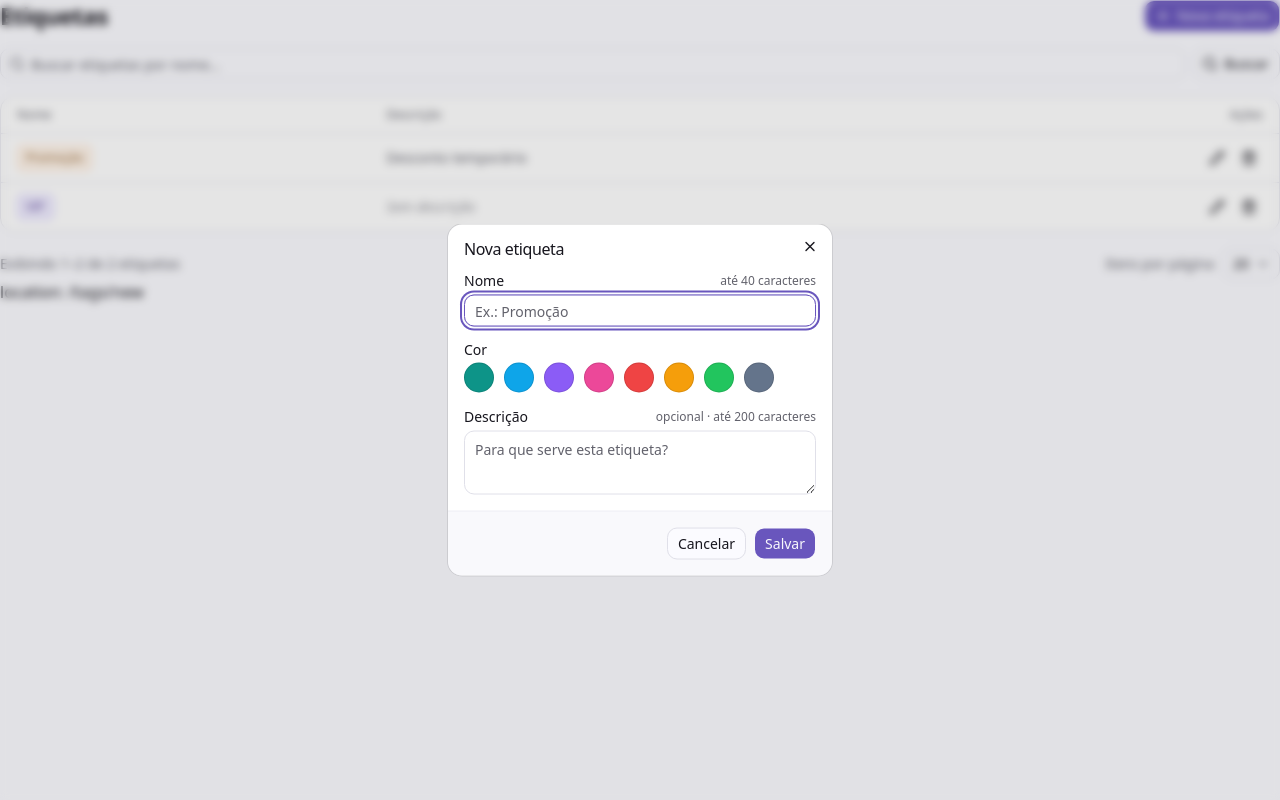
Test: TagFormPage › create mode (/tags/new) › shows a duplicate-name conflict verbatim as a form-level banner, without navigating away (spec US2 scenario 3)
Expected: the heading "Nova etiqueta" is shown, x1=464 y1=238 x2=564 y2=260
Type "Promoção" into the field labelled "Nome". click: (640, 310)
box: x1=464 y1=294 x2=816 y2=326
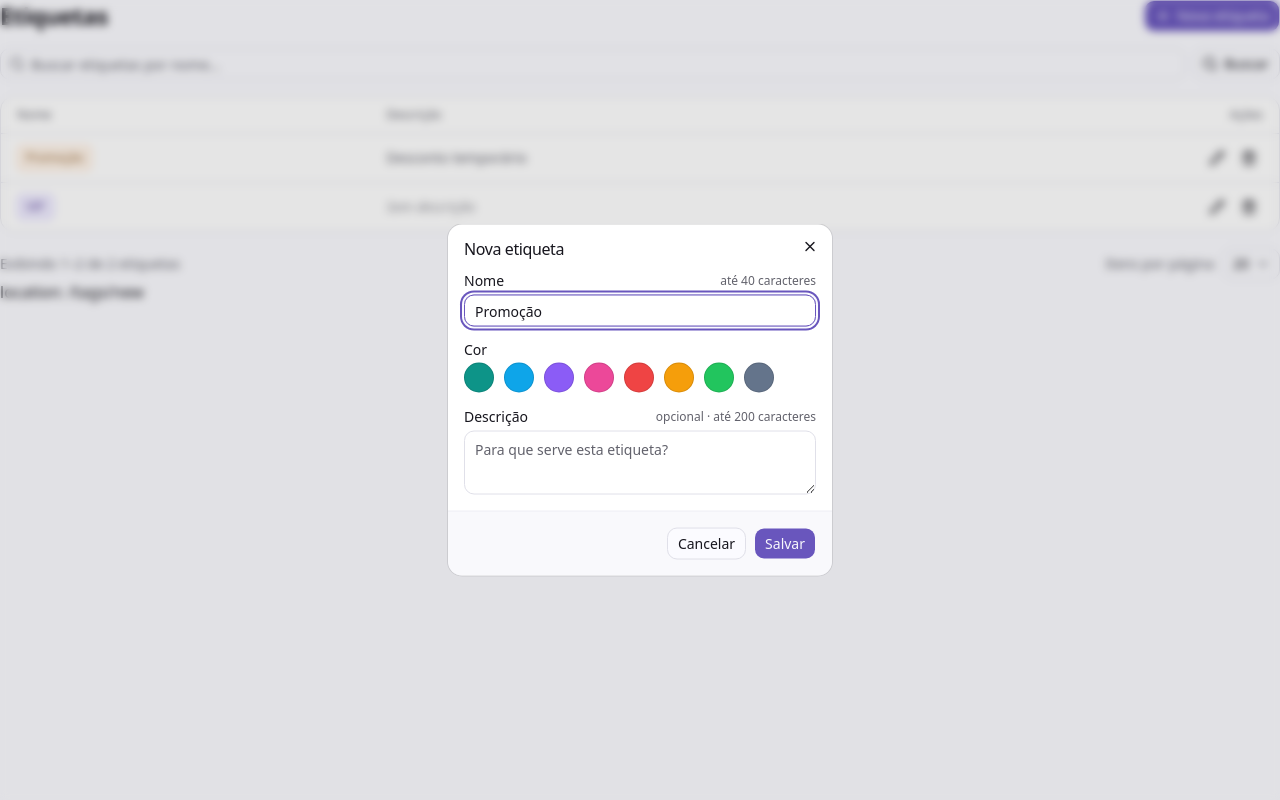
Click the radio button named "Âmbar". click: click(679, 378)
box: x1=664 y1=362 x2=694 y2=392
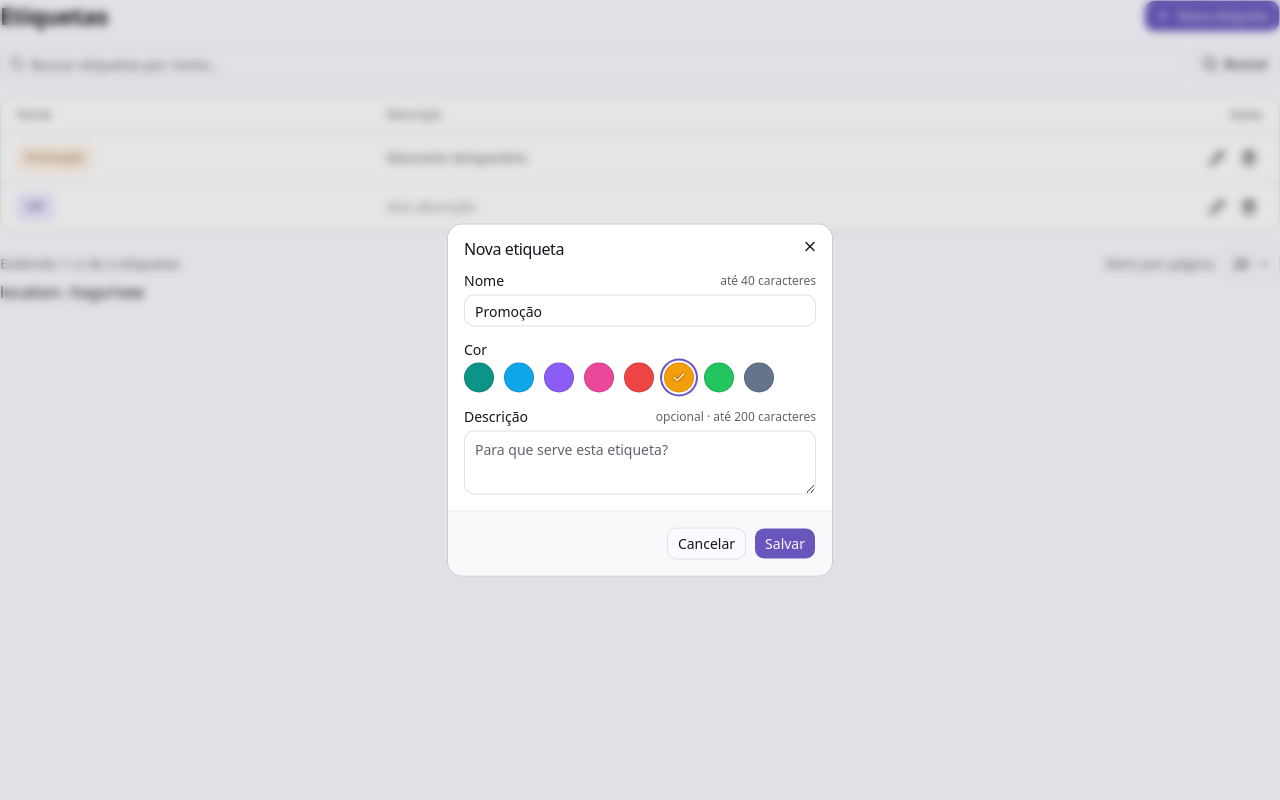
Click the button "Salvar". click: click(785, 544)
box: x1=754 y1=528 x2=816 y2=560
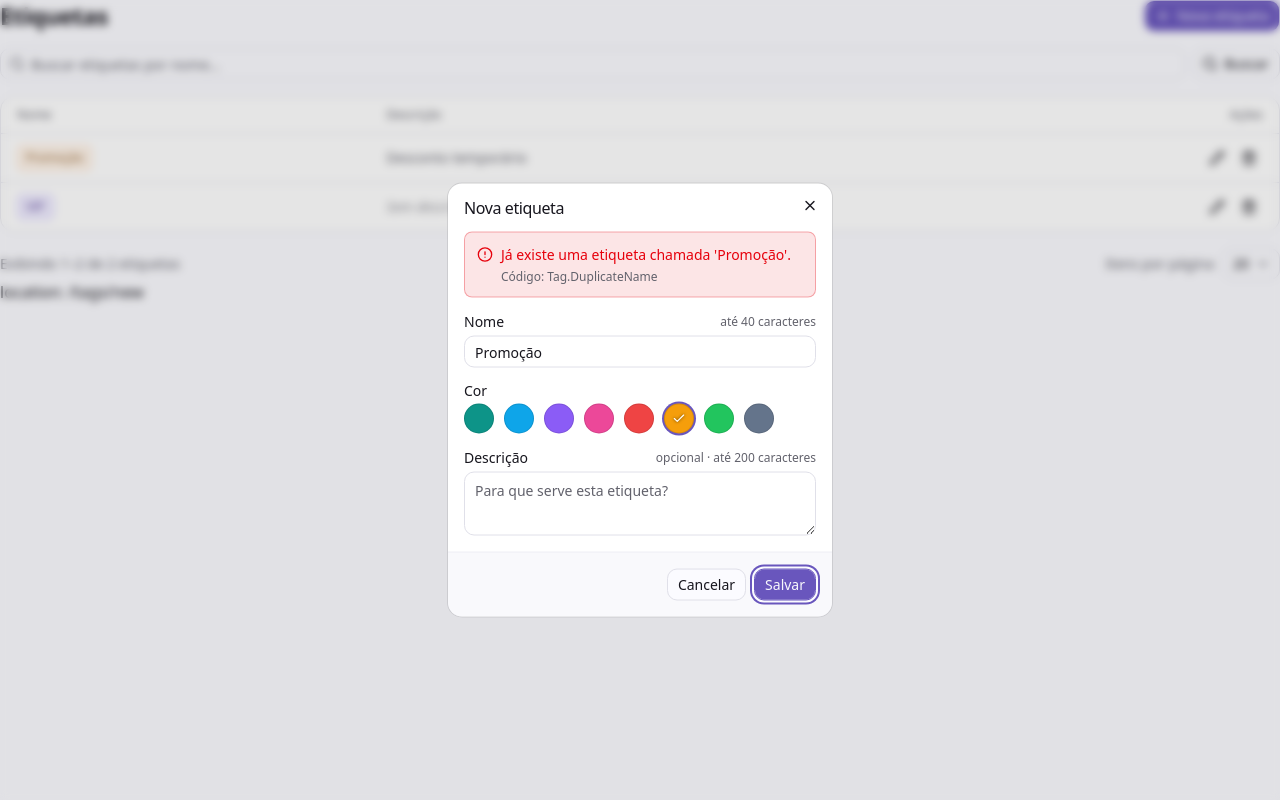
Expected: the heading "Nova etiqueta" is shown, x1=464 y1=196 x2=564 y2=218
Result: the message shows "Já existe uma etiqueta chamada 'Promoção'." at x1=501 y1=244 x2=791 y2=264
